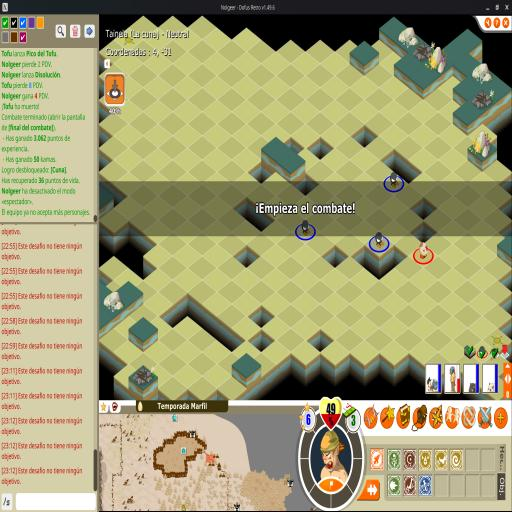Enemigos: (301, 219, 311, 237), (375, 231, 385, 248), (389, 171, 399, 188)
Personaje: (419, 242, 429, 260)
